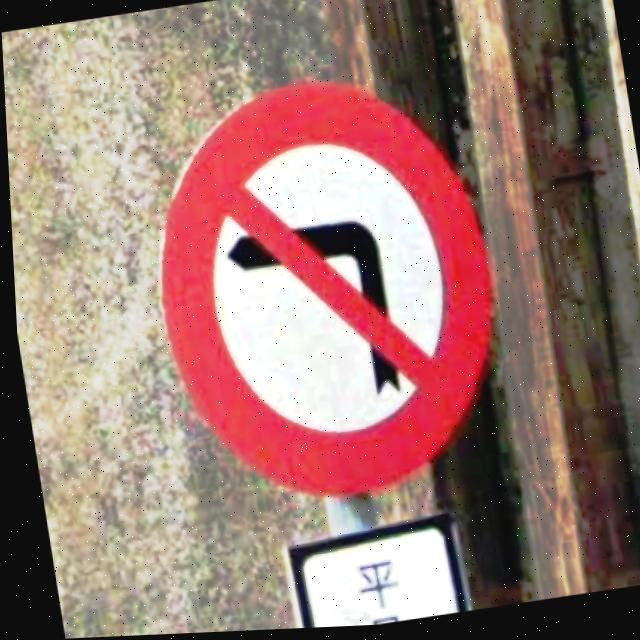noturnleft: (122, 56, 520, 522)
